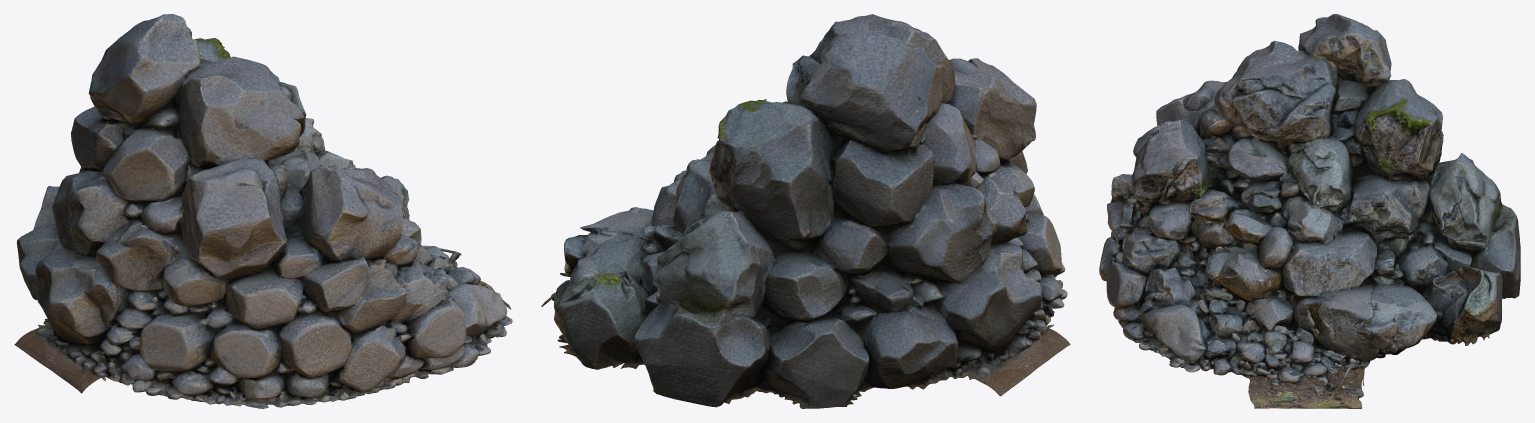
Rendered from rock-pile-model.glb.
The picture shows the model from 3 angles, left to right: view 1: azimuth 30°, elevation 25°; view 2: azimuth 150°, elevation 25°; view 3: azimuth 270°, elevation 25°; orthographic projection. The views are drawn at different scales.
Parts seen in each view (by area): view 1: tripo_node_7f9adb68-144a-4b6e-a7f4-1177a68dbf03; view 2: tripo_node_7f9adb68-144a-4b6e-a7f4-1177a68dbf03; view 3: tripo_node_7f9adb68-144a-4b6e-a7f4-1177a68dbf03.
Boxes of the visible parts, x1,y1,x2,y2 form: tripo_node_7f9adb68-144a-4b6e-a7f4-1177a68dbf03: [14, 14, 512, 408]; tripo_node_7f9adb68-144a-4b6e-a7f4-1177a68dbf03: [541, 14, 1070, 408]; tripo_node_7f9adb68-144a-4b6e-a7f4-1177a68dbf03: [1099, 14, 1520, 408].
Bounding box in the file's own units: 0.9922 × 0.7085 × 1.
1 material, 1 textured.
